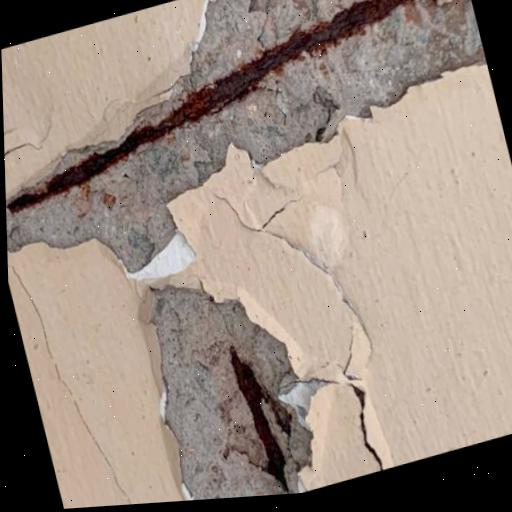exposed_rebar: (7, 0, 410, 212), (230, 345, 292, 491)
spalling: (6, 0, 486, 277), (151, 285, 310, 500)
